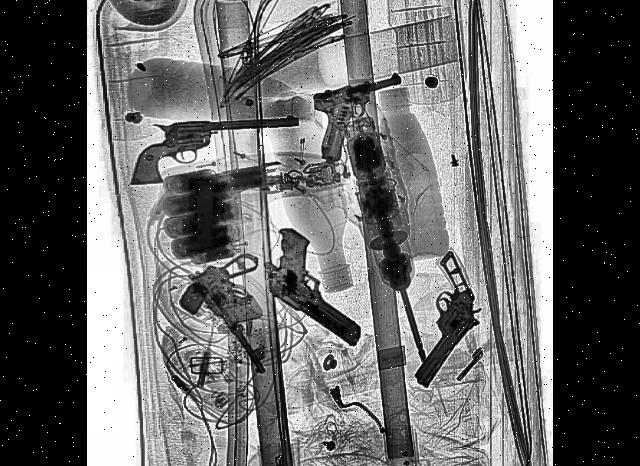Gun: (196, 225, 298, 385), (262, 222, 374, 352), (387, 250, 487, 394), (126, 112, 300, 187), (313, 72, 407, 168)
